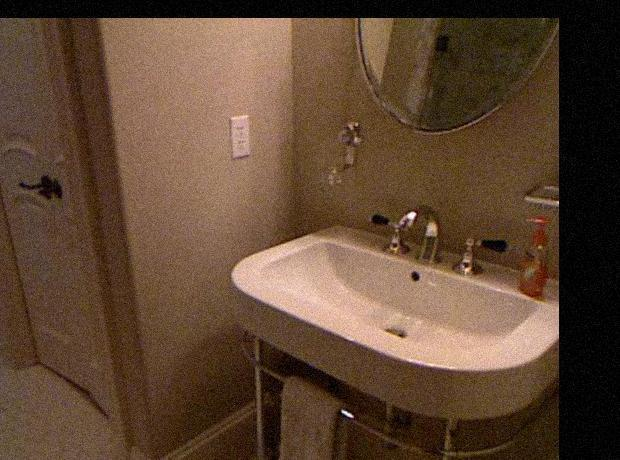Lavamanos: (235, 205, 556, 446)
